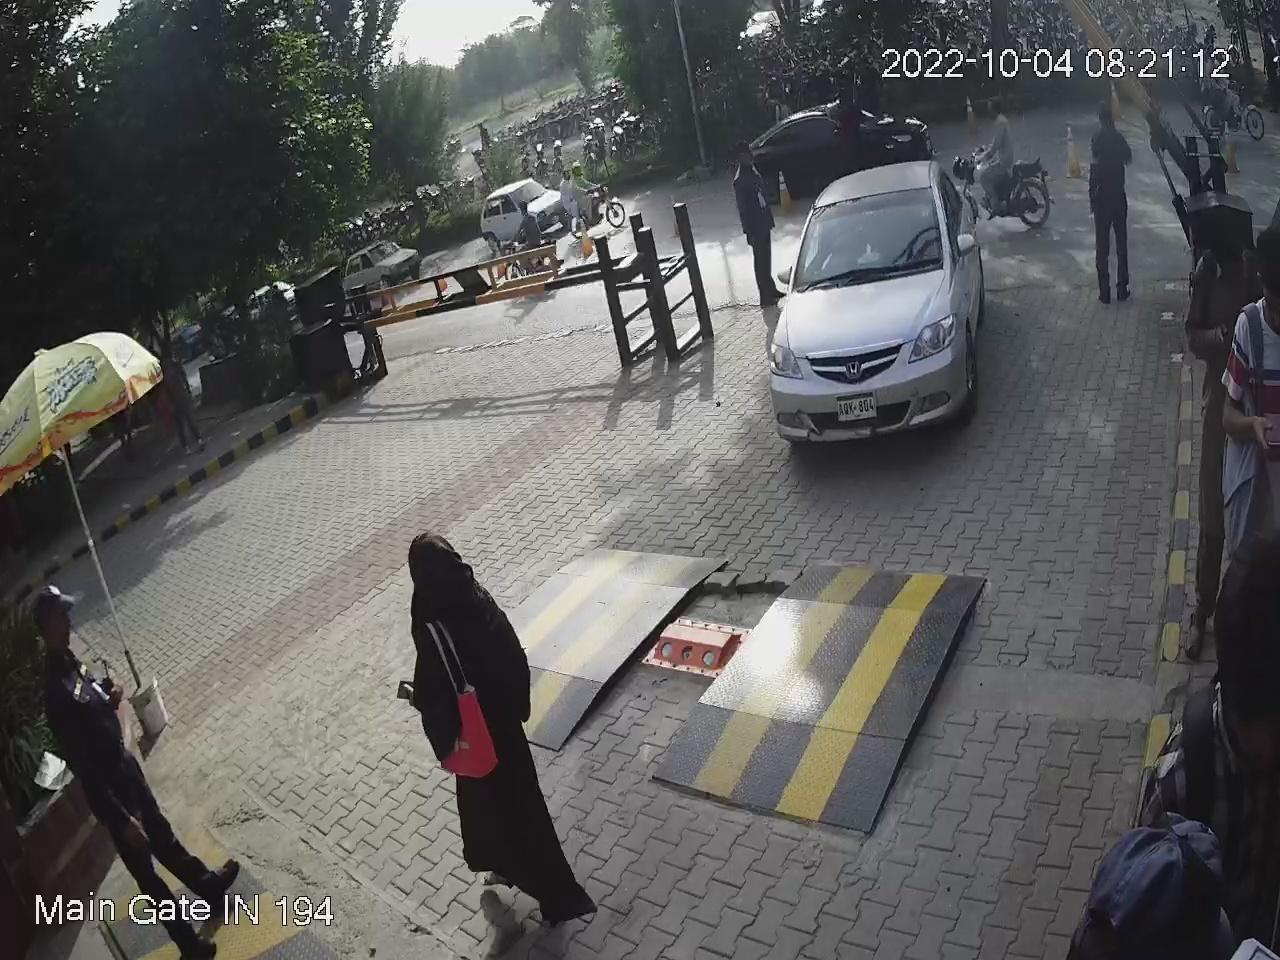windshield: (795, 181, 947, 290)
